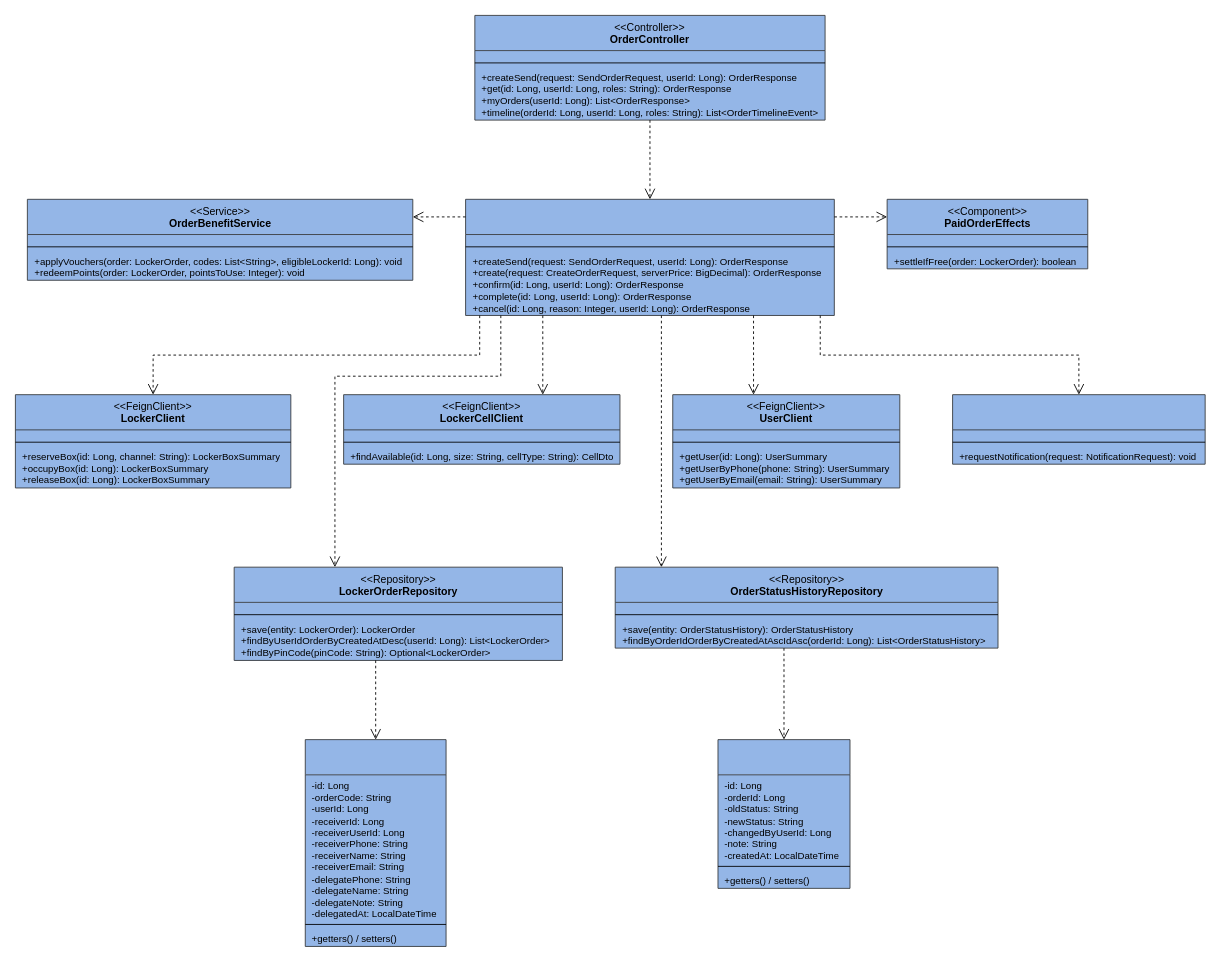
This 1221x964 diagram has some shape labels left out. Each missing label, with the box of its shape:
<<Entity>> LockerOrder: (304, 739, 446, 946)
<<Entity>> OrderStatusHistory: (717, 739, 850, 888)
<<FeignClient>> NotificationClient: (952, 394, 1205, 464)
<<Service>> OrderService: (465, 198, 834, 315)
